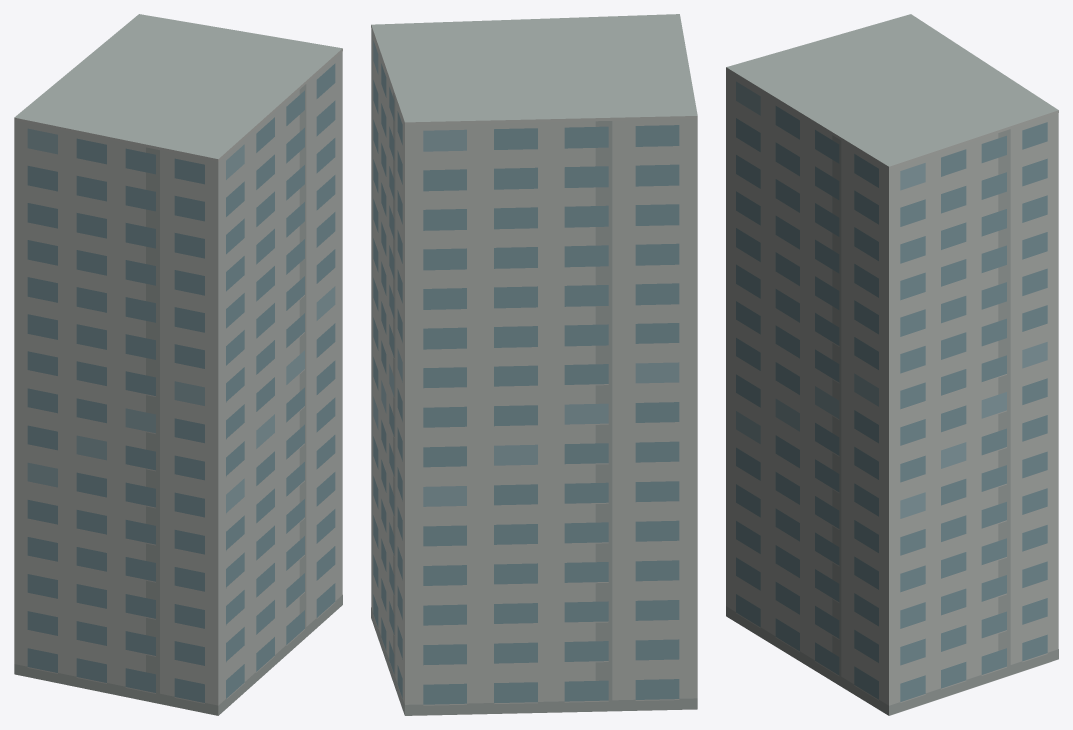
Rendered from residential-2671b0eb-9c06-4b3e-bccd-6e1b7e6f7ff2.glb.
The picture shows the model from 3 angles, left to right: view 1: azimuth 30°, elevation 25°; view 2: azimuth 150°, elevation 25°; view 3: azimuth 270°, elevation 25°; orthographic projection. The views are drawn at different scales.
Visible parts, largest first — view 1: residential-2671b0eb-9c06-4b3e-bccd-6e1b7e6f7ff2.tmp; view 2: residential-2671b0eb-9c06-4b3e-bccd-6e1b7e6f7ff2.tmp; view 3: residential-2671b0eb-9c06-4b3e-bccd-6e1b7e6f7ff2.tmp.
Part boxes in pixels (left/top/right/bottom): residential-2671b0eb-9c06-4b3e-bccd-6e1b7e6f7ff2.tmp: left=14, top=14, right=342, bottom=715; residential-2671b0eb-9c06-4b3e-bccd-6e1b7e6f7ff2.tmp: left=371, top=14, right=697, bottom=715; residential-2671b0eb-9c06-4b3e-bccd-6e1b7e6f7ff2.tmp: left=726, top=14, right=1058, bottom=715.
Size of the model in its own units: 28.05 by 47 by 25.81.
